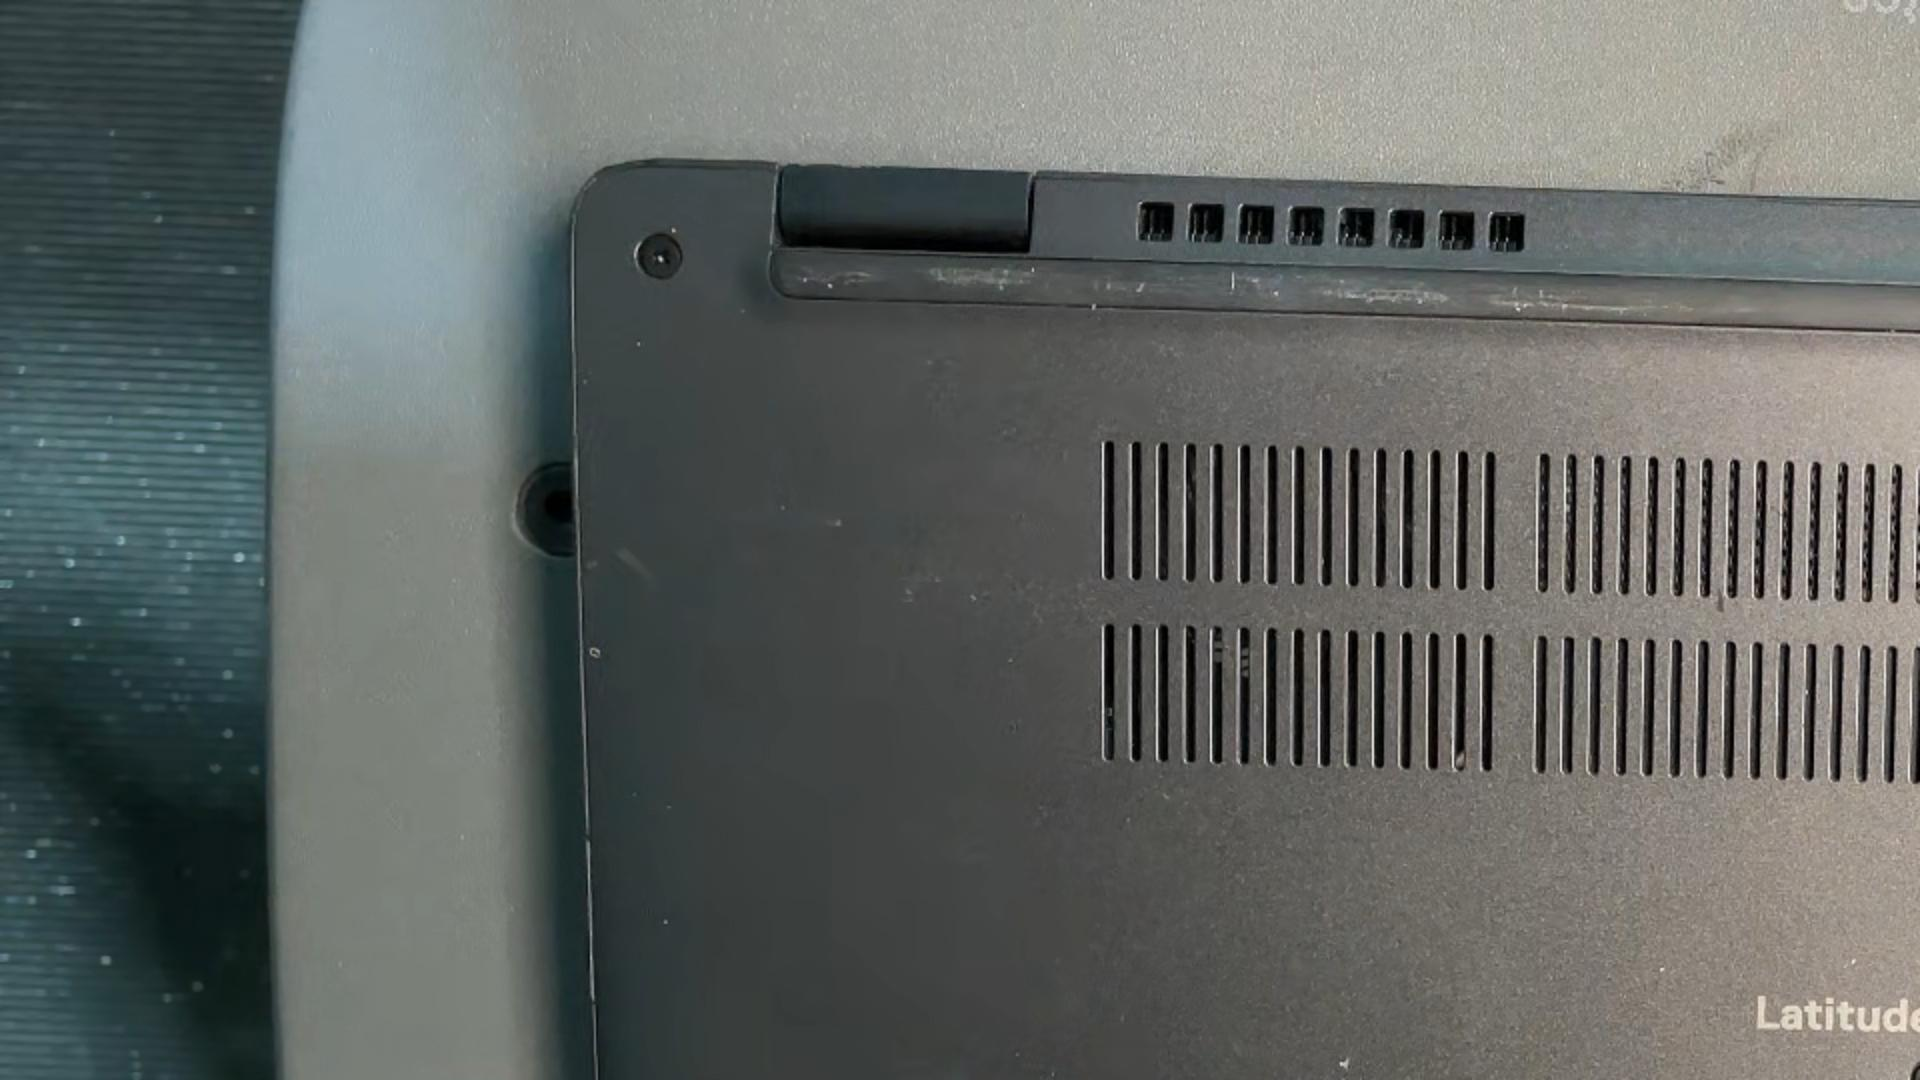chip: (1335, 1056, 1356, 1076)
scratches: (1714, 584, 1726, 617)
